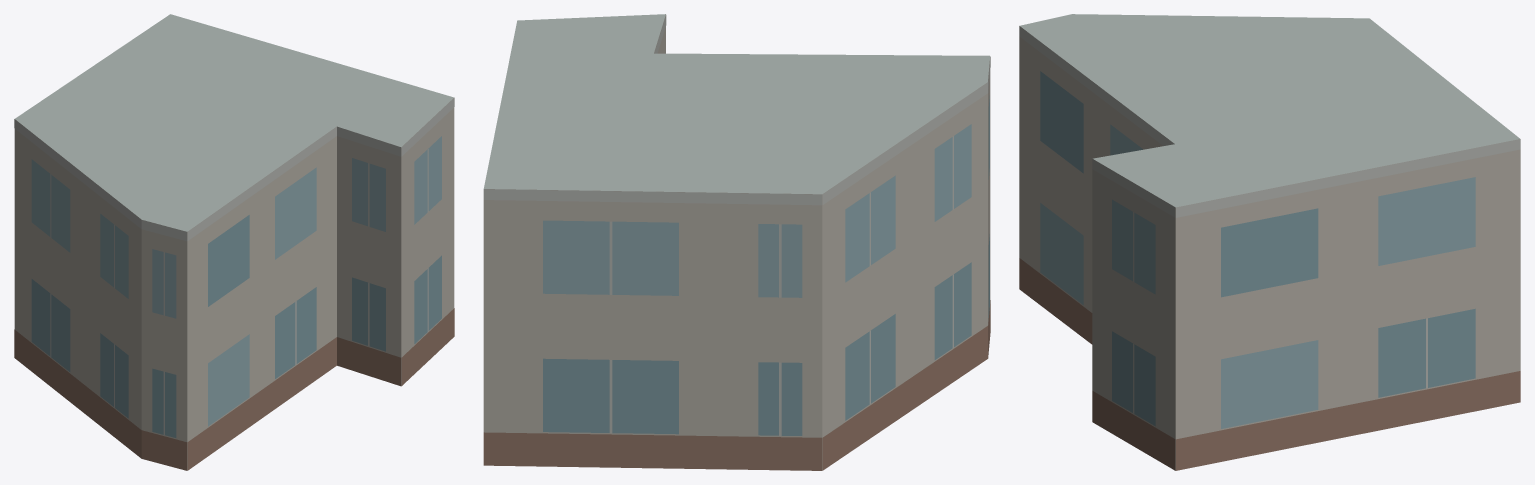
File: survey-upis-32728818.glb
3 views of the same model, side by side, from view 1: azimuth 30°, elevation 25°; view 2: azimuth 150°, elevation 25°; view 3: azimuth 270°, elevation 25° (orthographic). The views are drawn at different scales.
Parts seen in each view (by area): view 1: survey-upis-32728818.tmp; view 2: survey-upis-32728818.tmp; view 3: survey-upis-32728818.tmp.
Boxes of the visible parts, bbox=[...] form: survey-upis-32728818.tmp: bbox=[14, 14, 454, 470]; survey-upis-32728818.tmp: bbox=[483, 14, 990, 470]; survey-upis-32728818.tmp: bbox=[1019, 14, 1520, 470].
Bounding box in the file's own units: 9.62 × 6.1 × 10.53.
